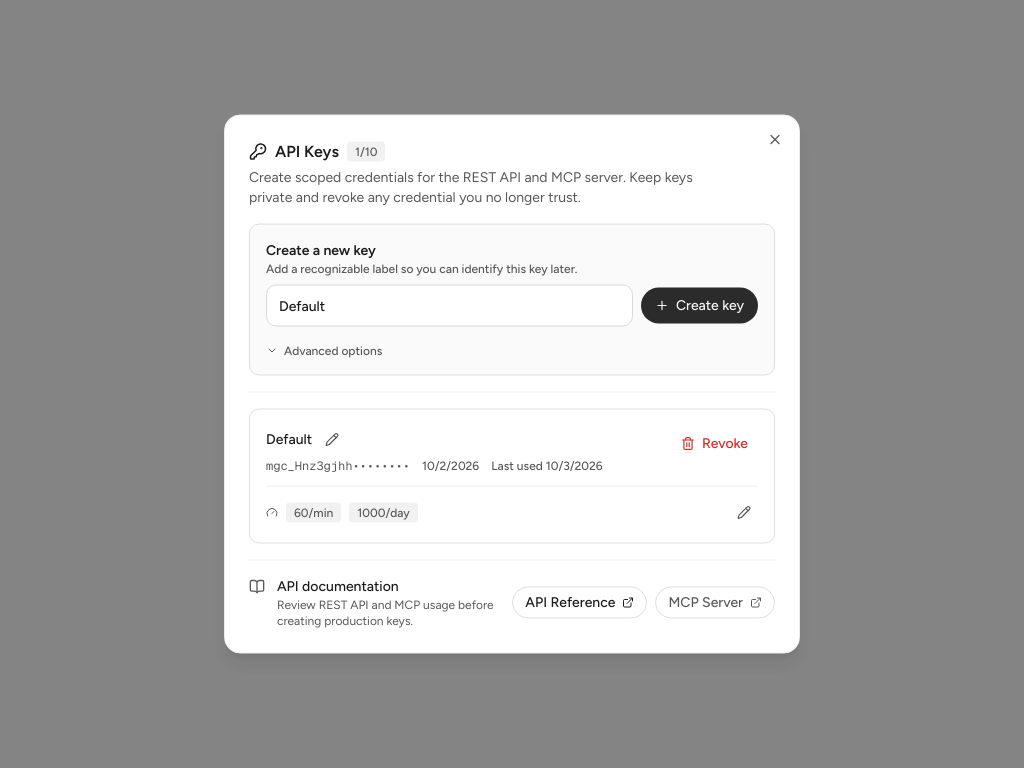
Test: creating a key › checks Per min = 1.5 the way the contract does, and sends nothing
Click the button "Advanced options".
click(324, 350)  # box [266, 342, 382, 358]
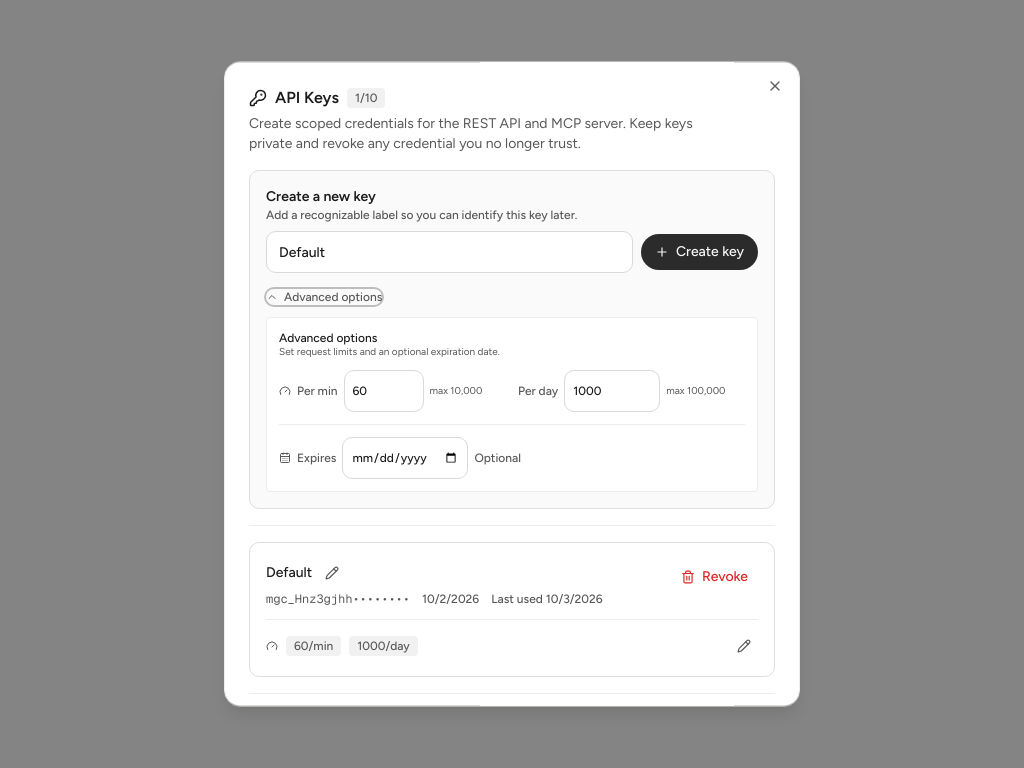
Replace the text in the number field labelled "Per min" with "1.5" at (384, 391), box [344, 370, 424, 412]
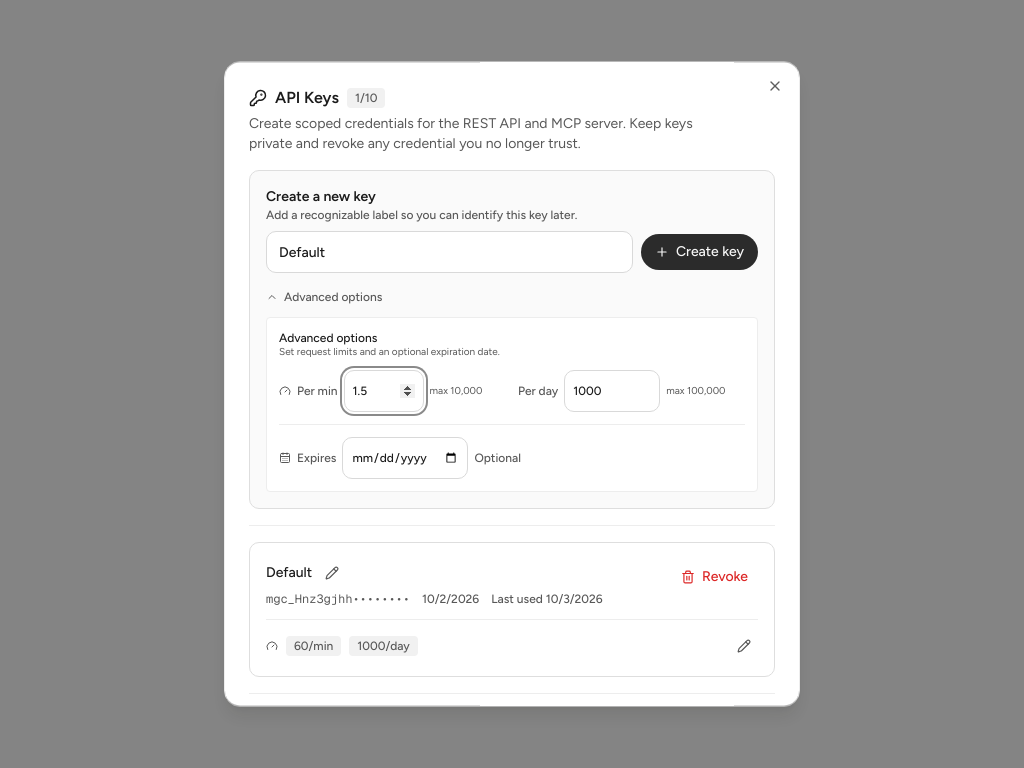
Click the button "Create key".
click(699, 252)  # box [641, 234, 758, 270]
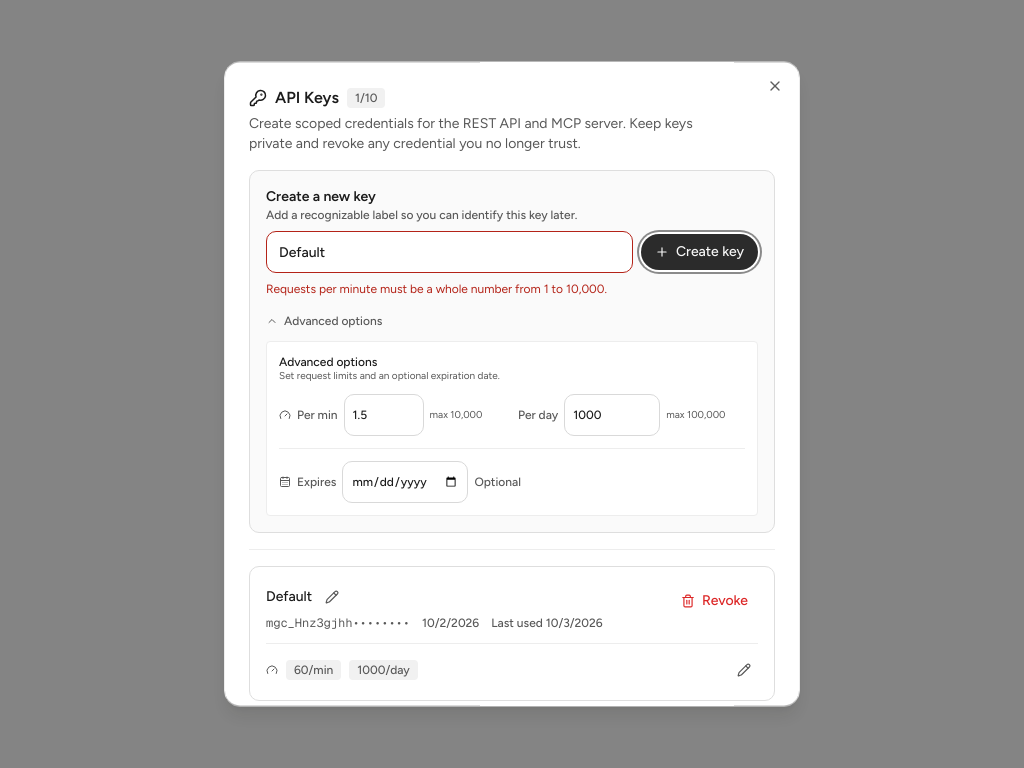
Check: the message reads "Requests per minute must be a whole number from 1 to 10,000.", box [266, 282, 607, 296]
